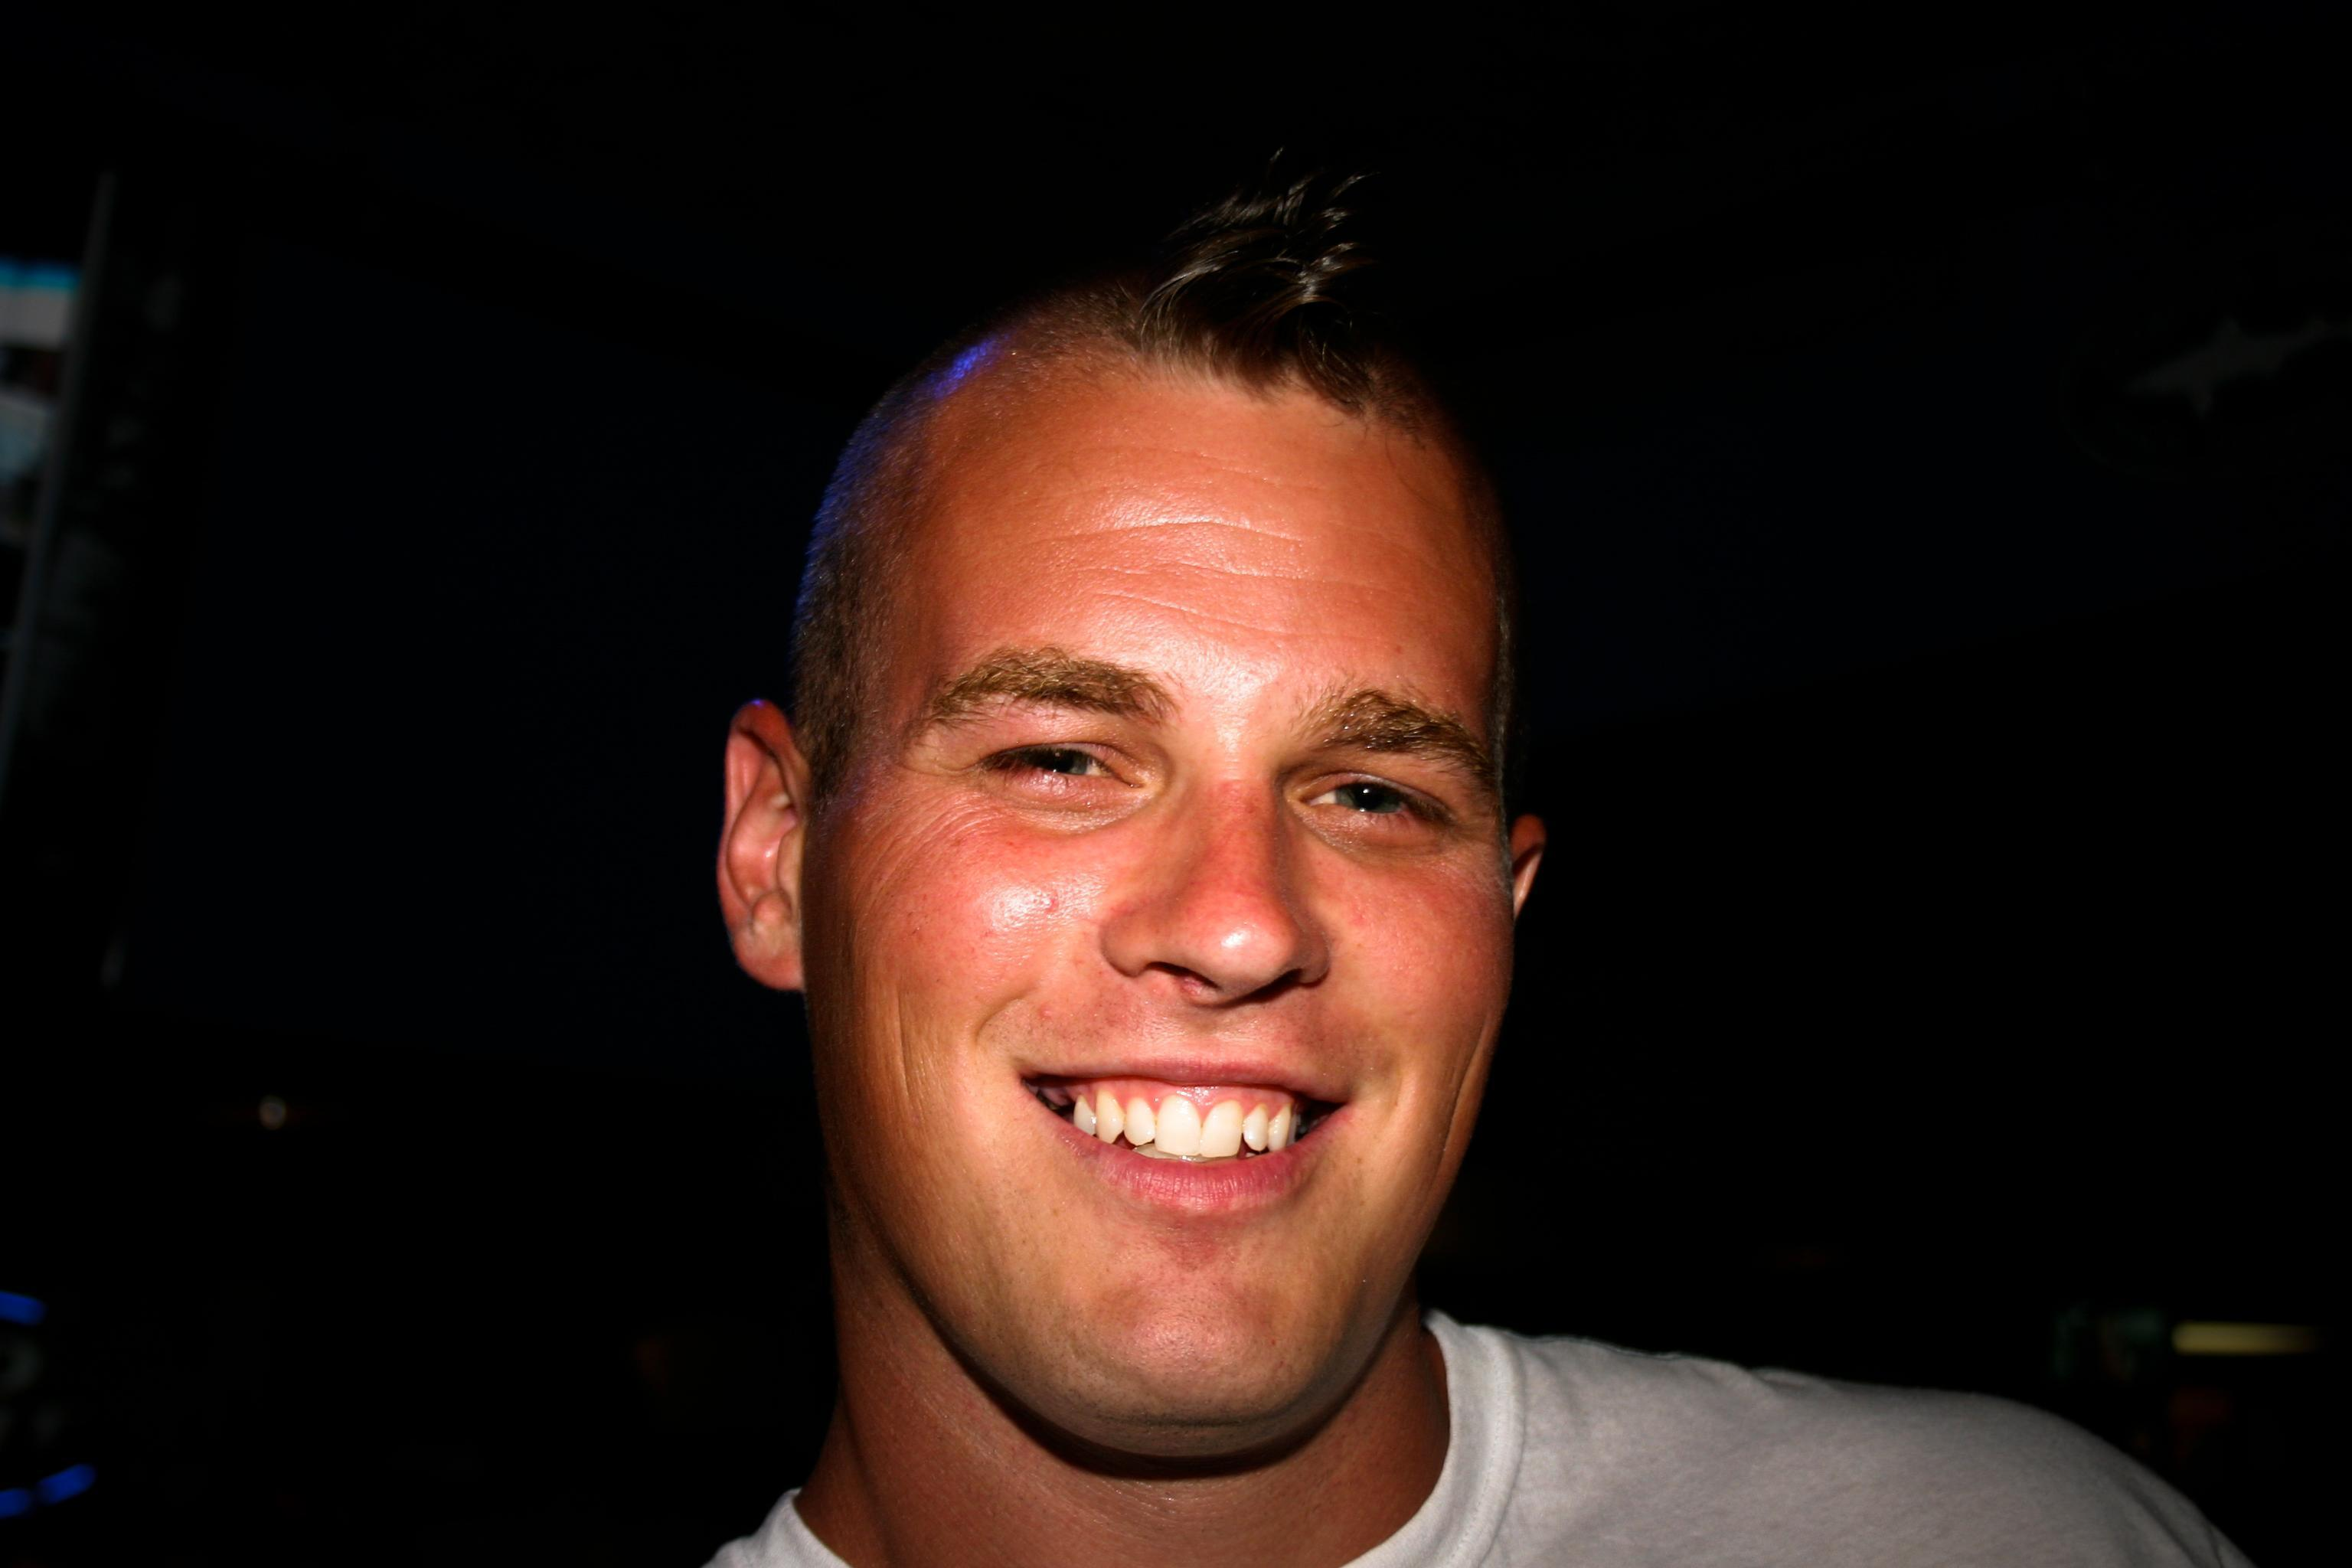Eyebags: (994, 773, 1150, 842), (1298, 808, 1451, 868)
